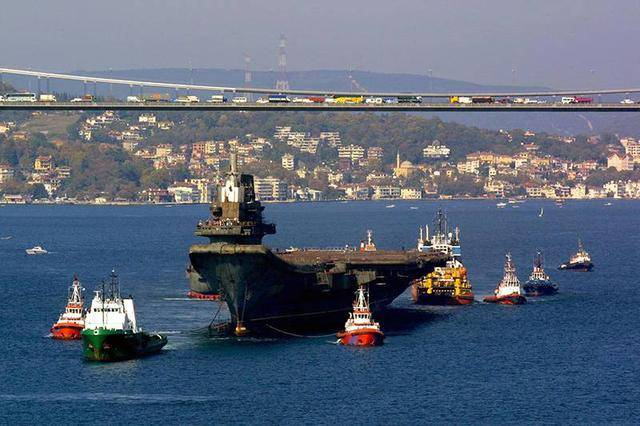otherboat: (81, 267, 178, 364), (407, 208, 473, 308), (330, 285, 386, 351), (48, 276, 95, 341), (483, 251, 529, 308), (524, 249, 561, 297), (556, 238, 595, 272), (23, 242, 47, 256)
warship: (187, 149, 452, 347)
